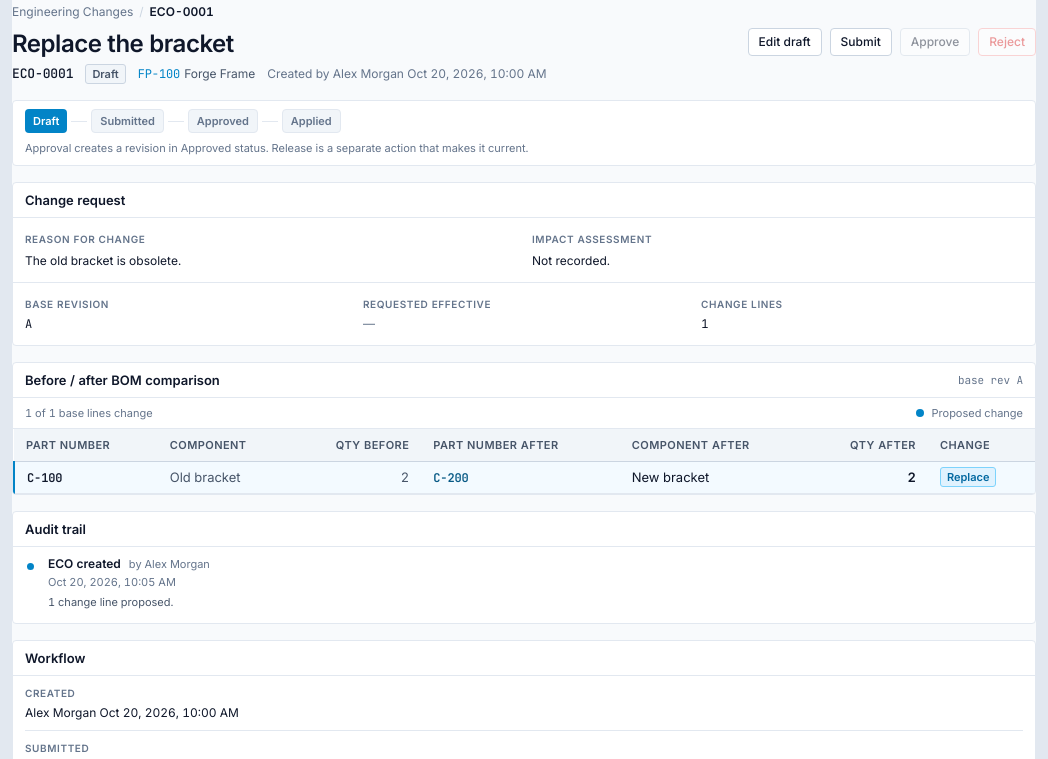
Scenario: EcoDetail › shows an actionable link when submit fails on a stale base revision
expect the heading "Replace the bracket" is shown: met, box [12,29,234,58]
Click the button "Submit". click: [861, 42]
box: [830,28,892,56]
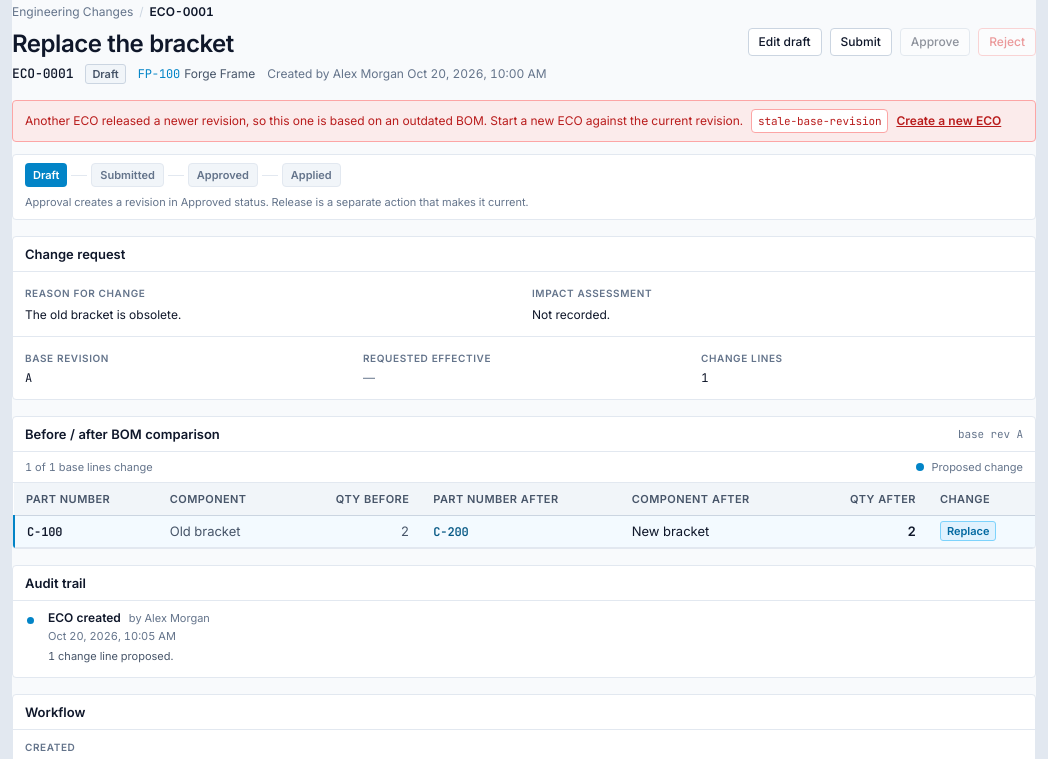
expect the text "outdated BOM" is shown: met, box [25,113,743,128]
expect the text "stale-base-revision" is shown: met, box [751,109,888,133]
